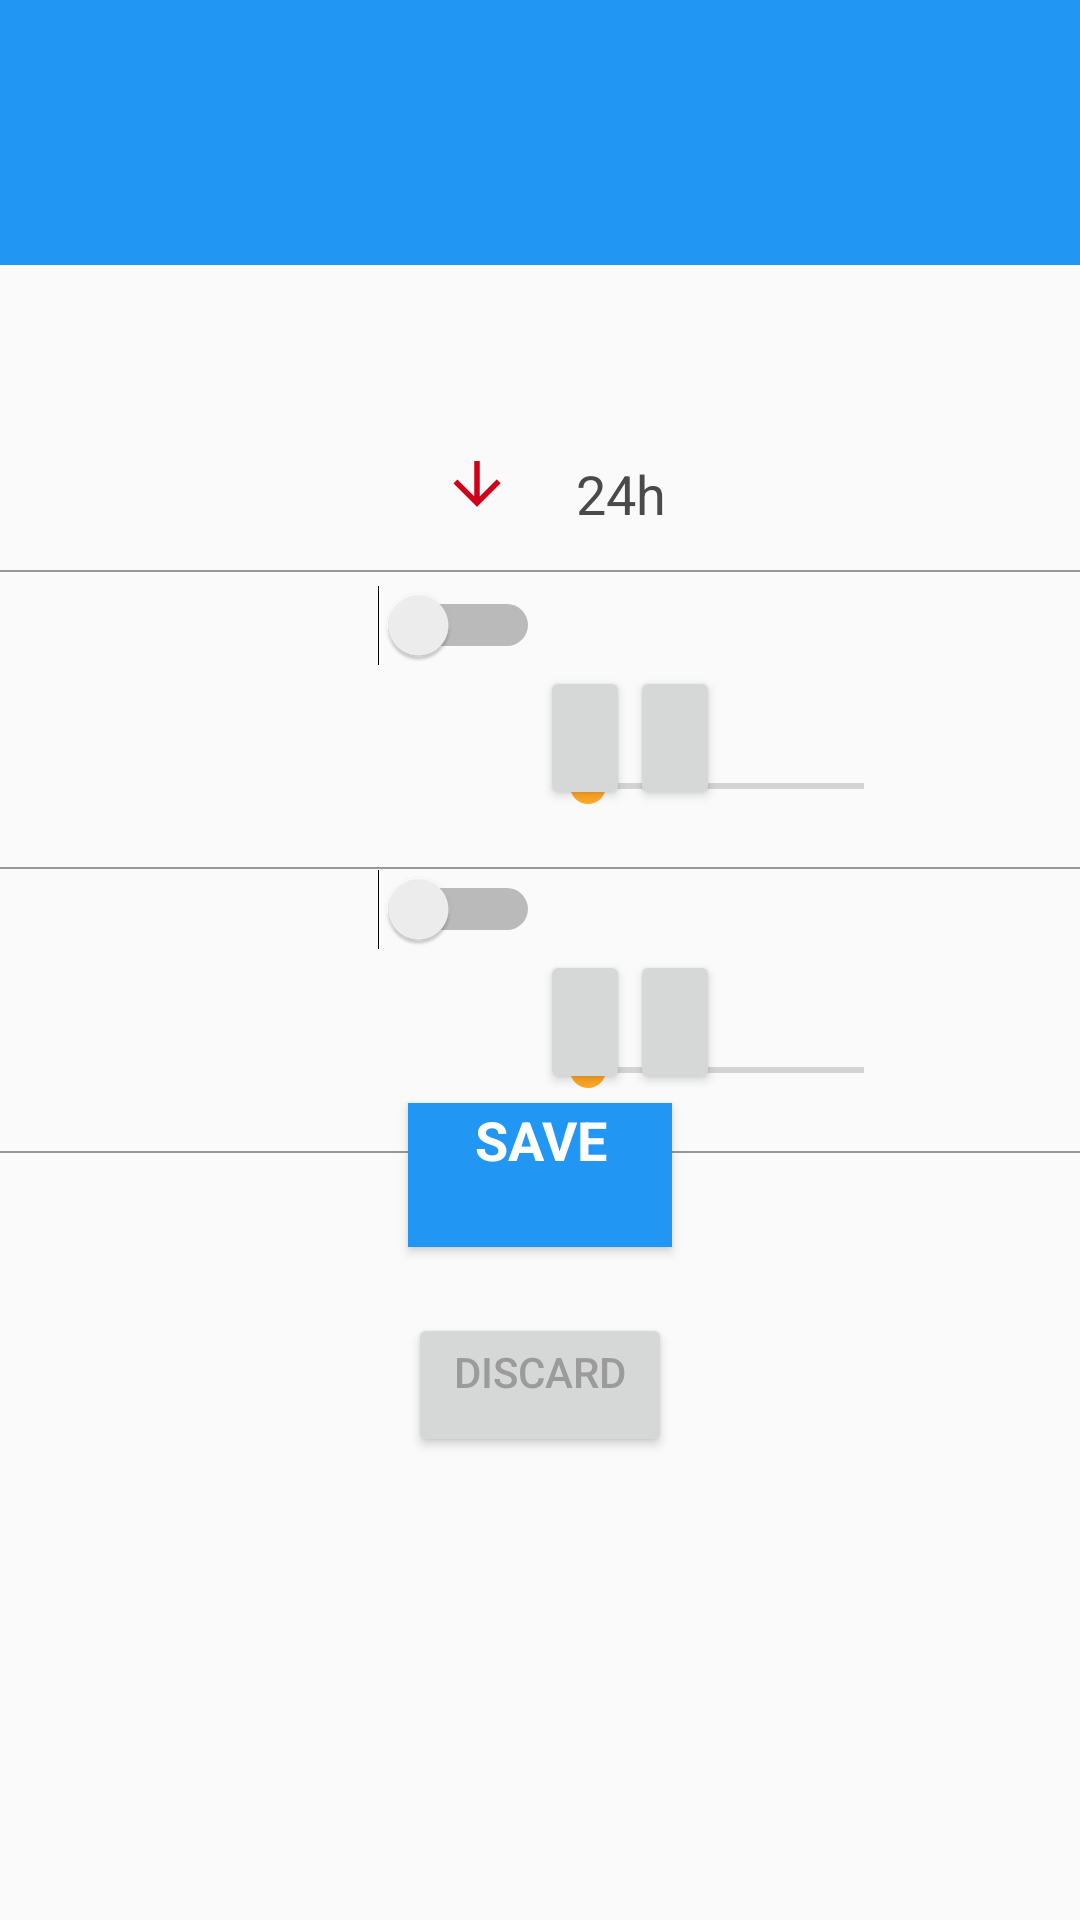

Named icons in this screenshot (1080px x 1920px) and their bounding boxes, (x1, y1, x2, y2):
arrow down: (453, 461, 501, 507)
